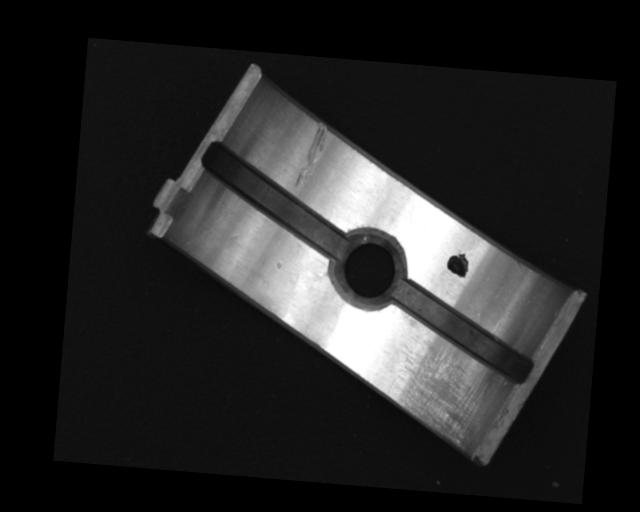blot: (445, 251, 471, 279)
bruise: (275, 257, 283, 270)
gap: (196, 143, 353, 260), (385, 279, 539, 384)
hole: (328, 227, 407, 312)
nick: (294, 119, 329, 190)
scratch: (385, 333, 495, 448)
